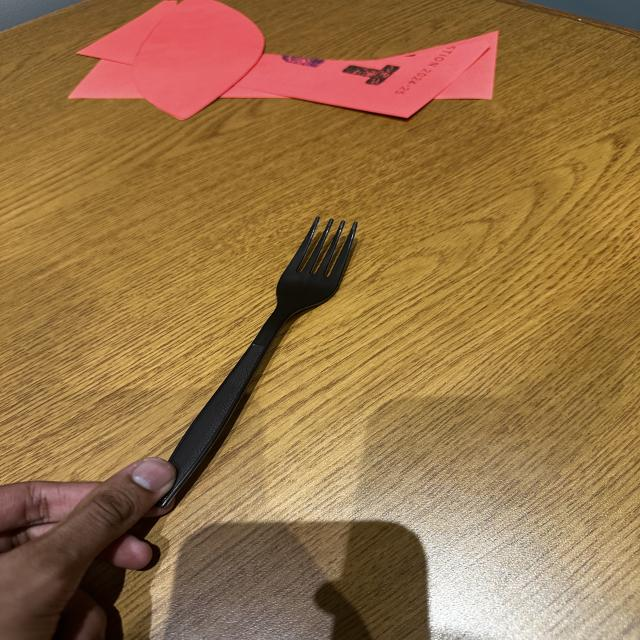fork: (136, 193, 415, 520)
